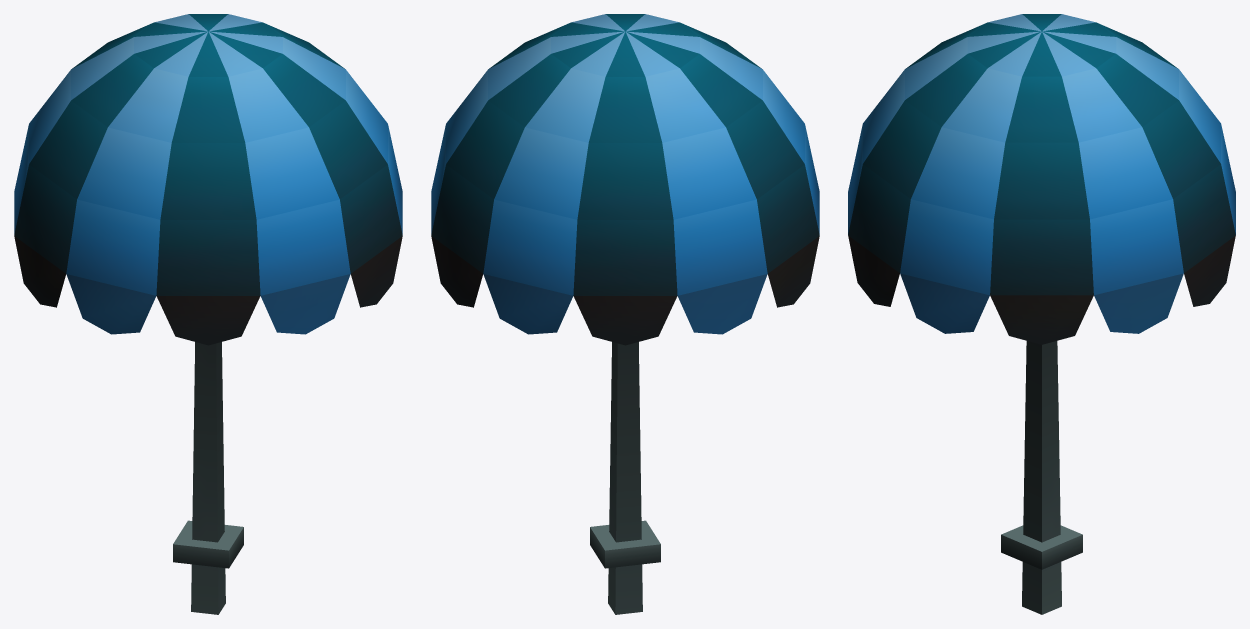
File: Umbrella_1D.fbx
3 renders of one model, left to right at view 1: azimuth 30°, elevation 25°; view 2: azimuth 150°, elevation 25°; view 3: azimuth 270°, elevation 25°, orthographic.
Visible parts, largest first — view 1: Umbrella_1D; view 2: Umbrella_1D; view 3: Umbrella_1D.
Boxes of the visible parts, x1,y1,x2,y2 form: Umbrella_1D: (14, 14, 402, 614); Umbrella_1D: (431, 14, 819, 614); Umbrella_1D: (848, 14, 1235, 614).
Bounding box in the file's own units: 244 × 400 × 244.
